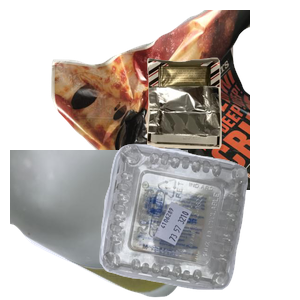glass: (10, 150, 190, 300)
paper: (49, 10, 289, 190)
plastic: (97, 141, 300, 300)
trash: (144, 55, 300, 197)
